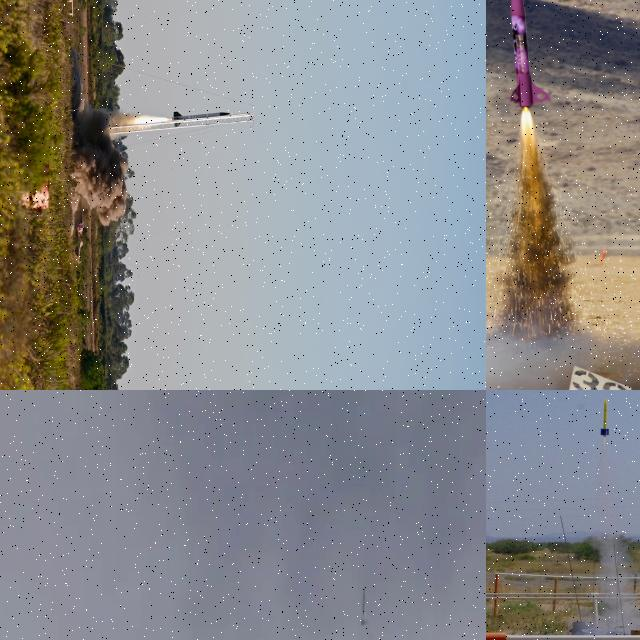Rocket: (507, 0, 553, 109), (172, 111, 231, 127), (600, 399, 610, 437)
